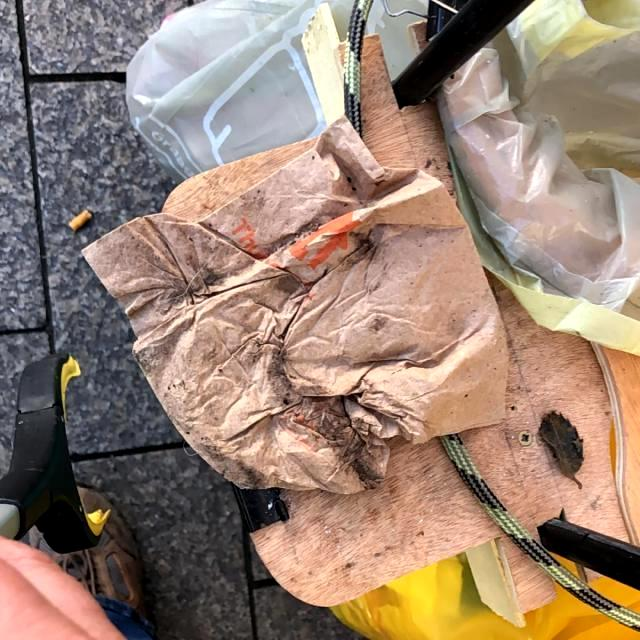Paper: (74, 111, 514, 496)
